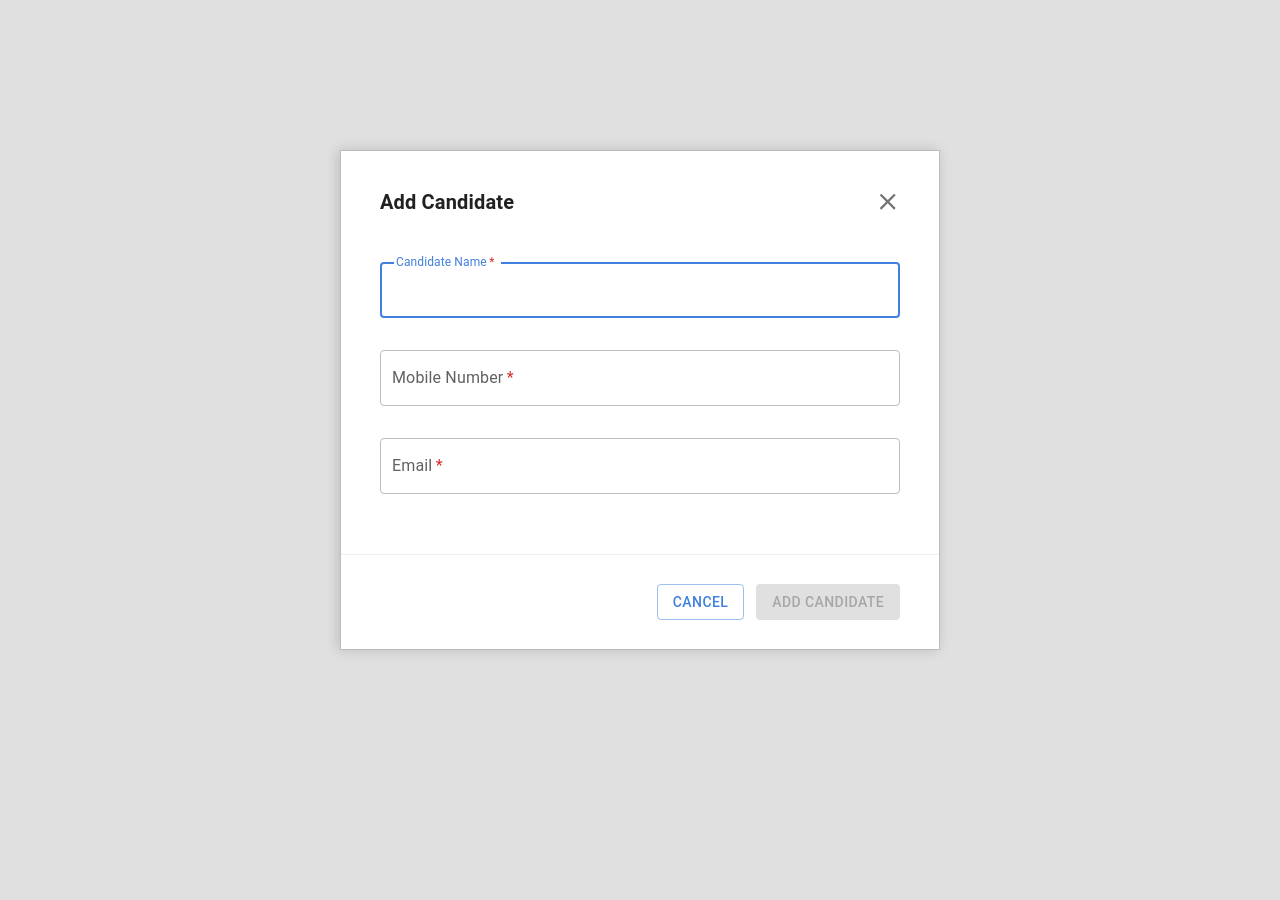
AddCandidateDialog › shows a server field error next to its input
The width and height of the screenshot is (1280, 900).
Type "Taylor Swift" into the field labelled "Candidate Name *" at (640, 290), box x1=380 y1=262 x2=900 y2=318
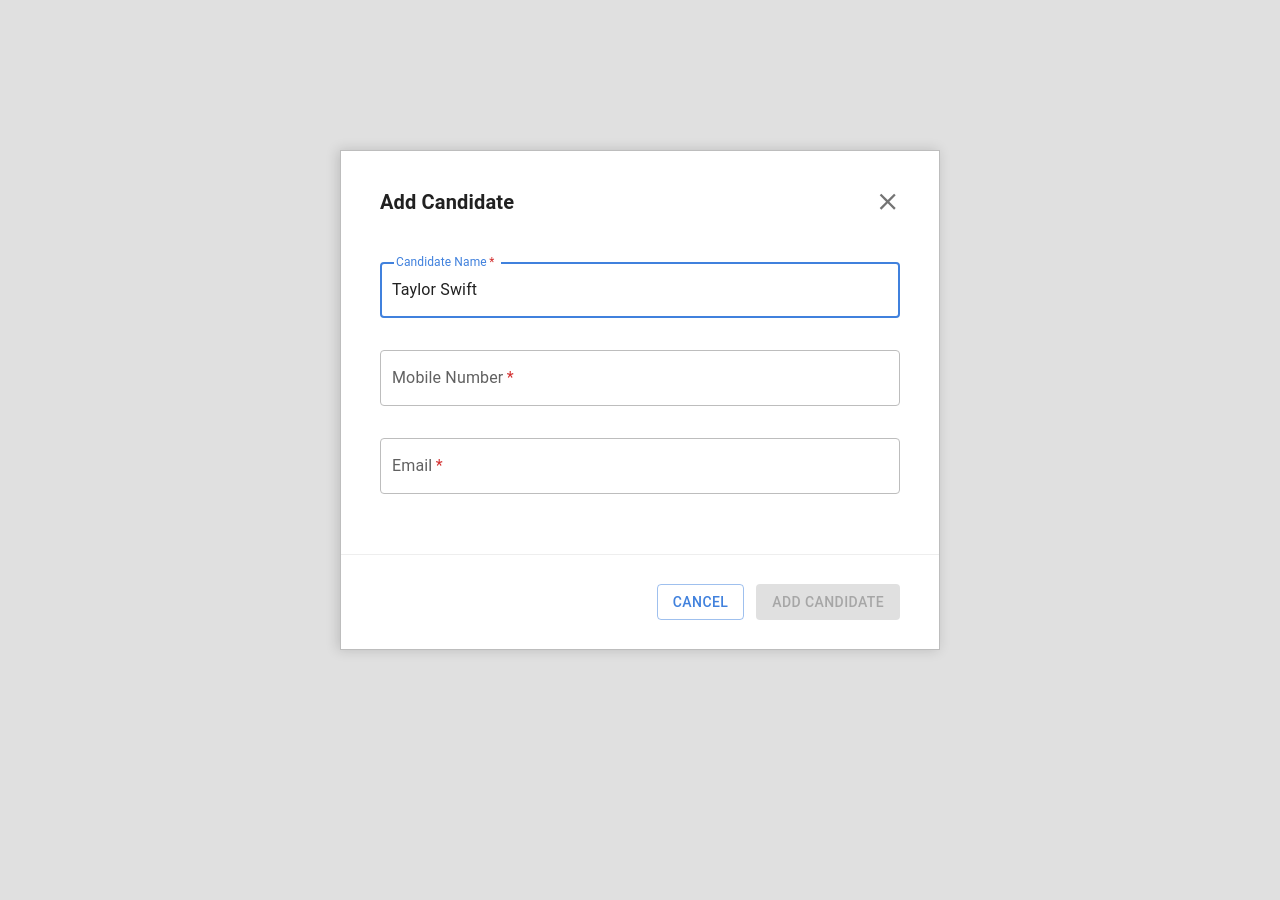
Type "9876543210" into the field labelled "Mobile Number *" at (640, 378), box x1=380 y1=350 x2=900 y2=406
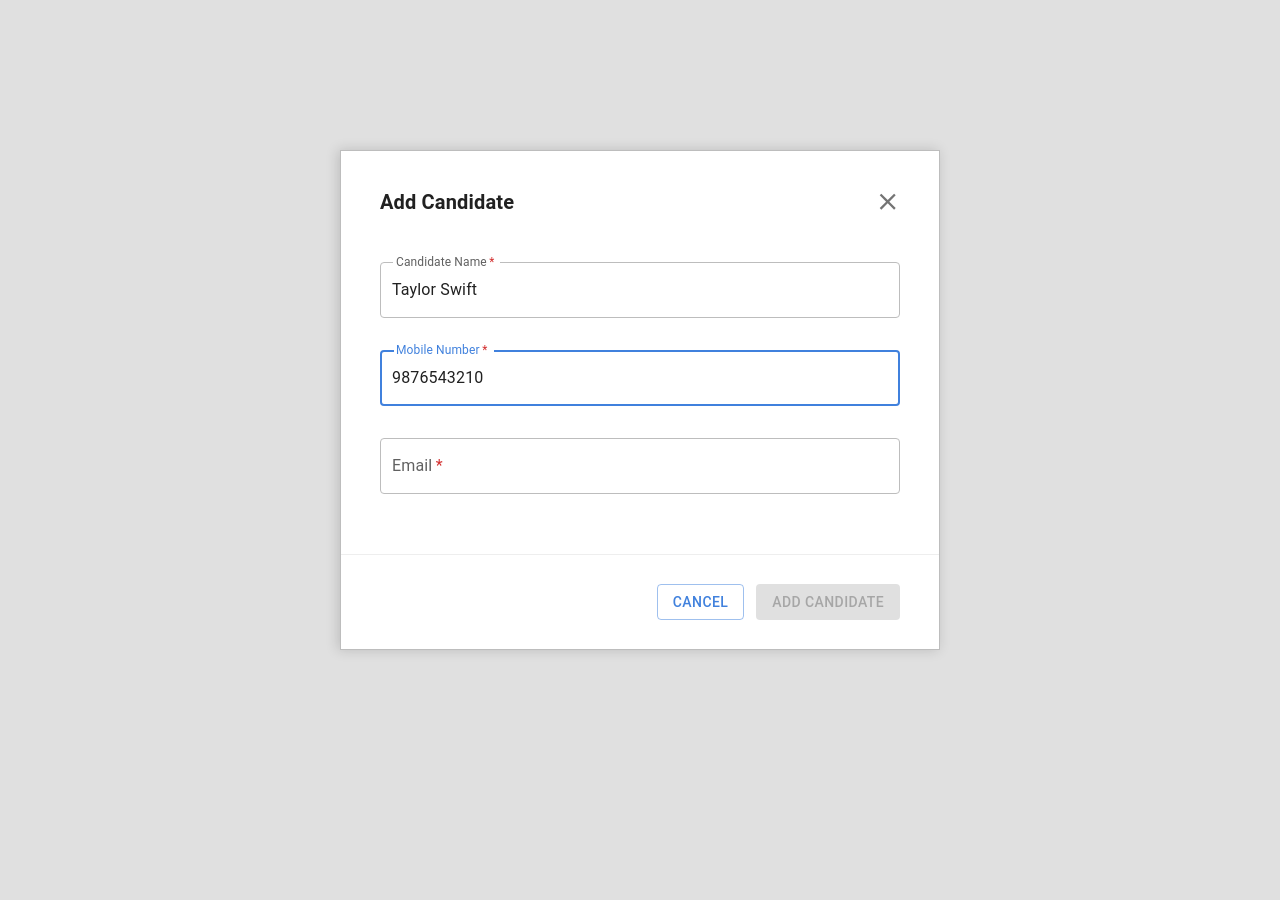
Type "taylor@example.com" into the field labelled "Email *" at (640, 466), box x1=380 y1=438 x2=900 y2=494
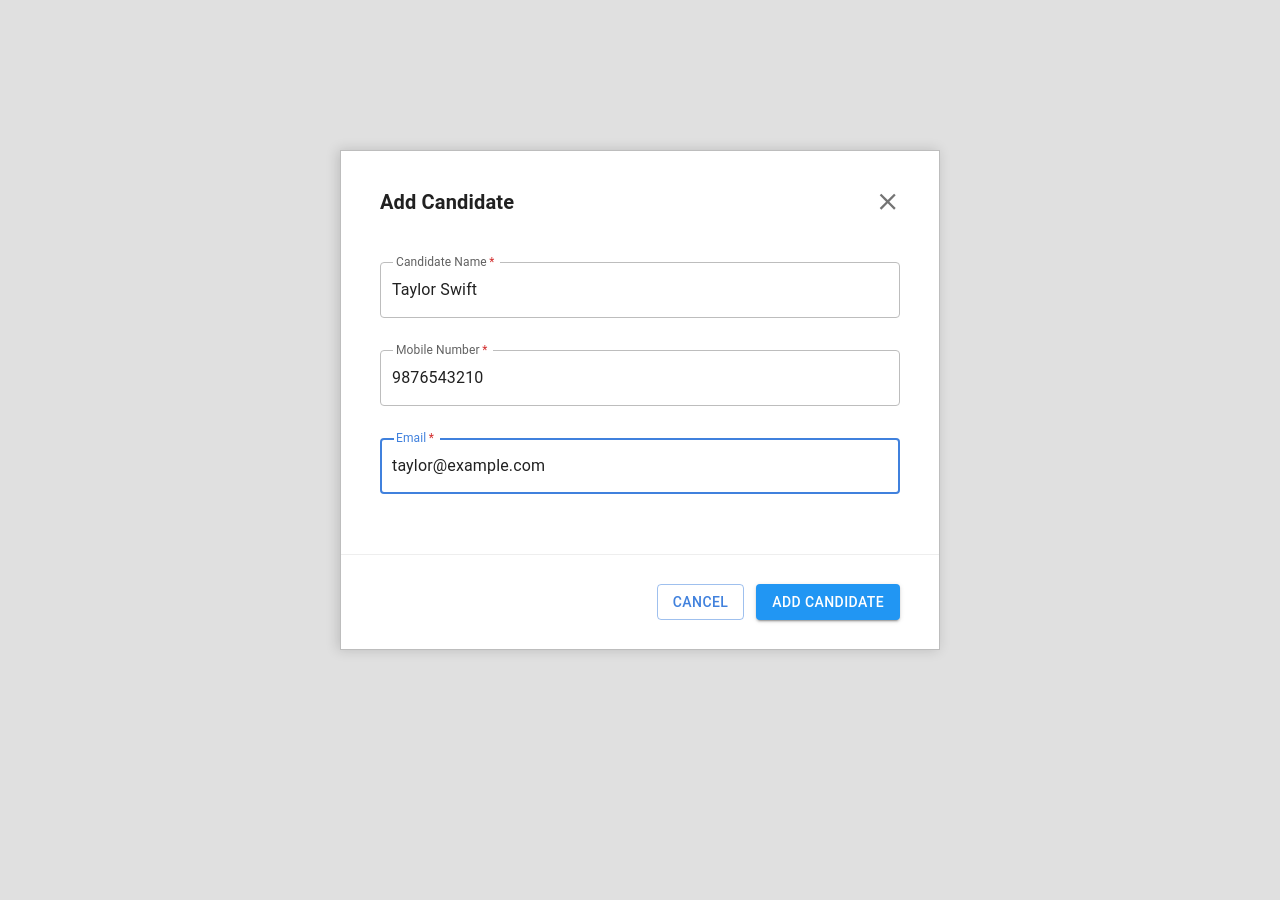
Click the button "Add candidate" at (828, 602), box x1=756 y1=584 x2=900 y2=620
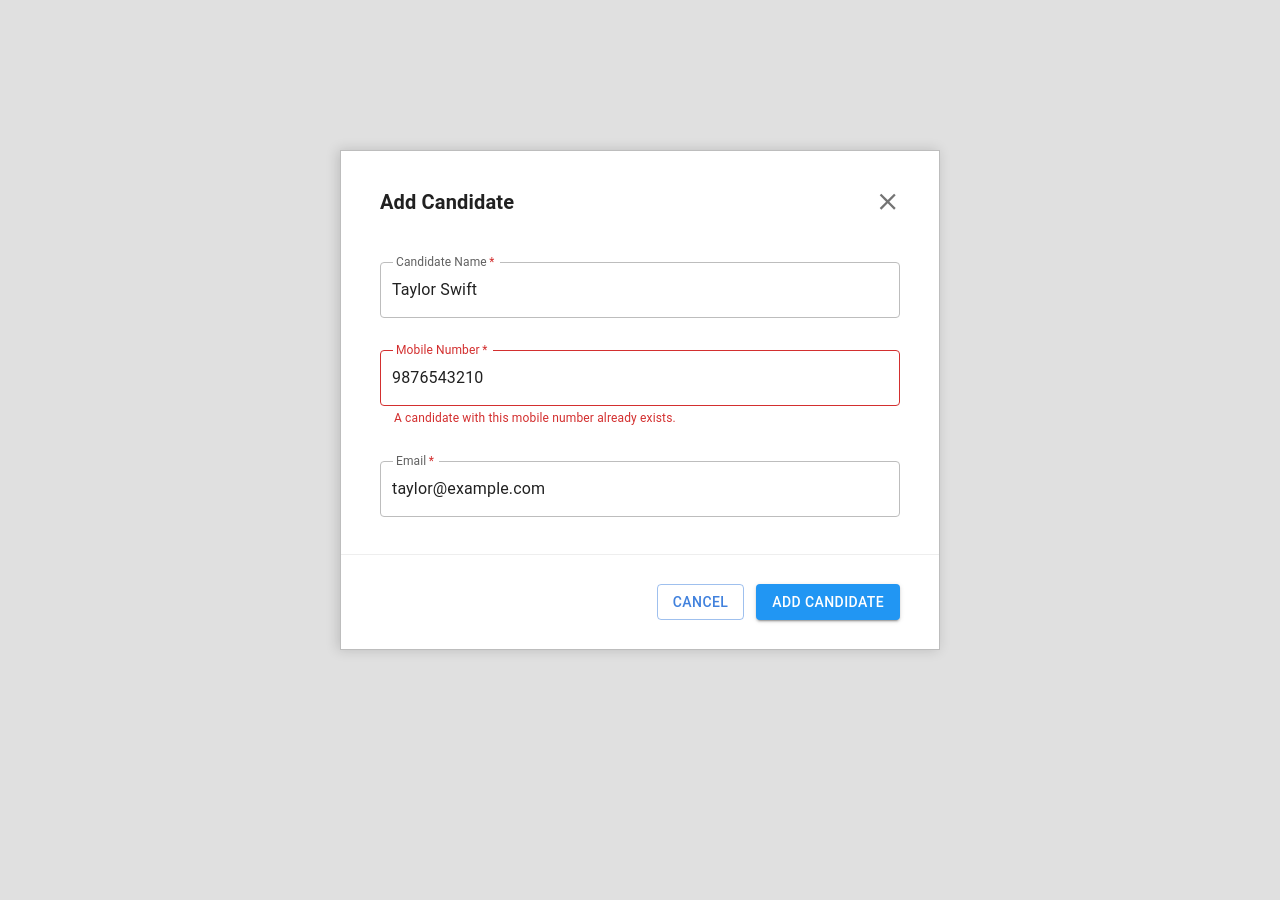
Expected: the text "A candidate with this mobile number already exists." is shown, x1=394 y1=411 x2=676 y2=425
